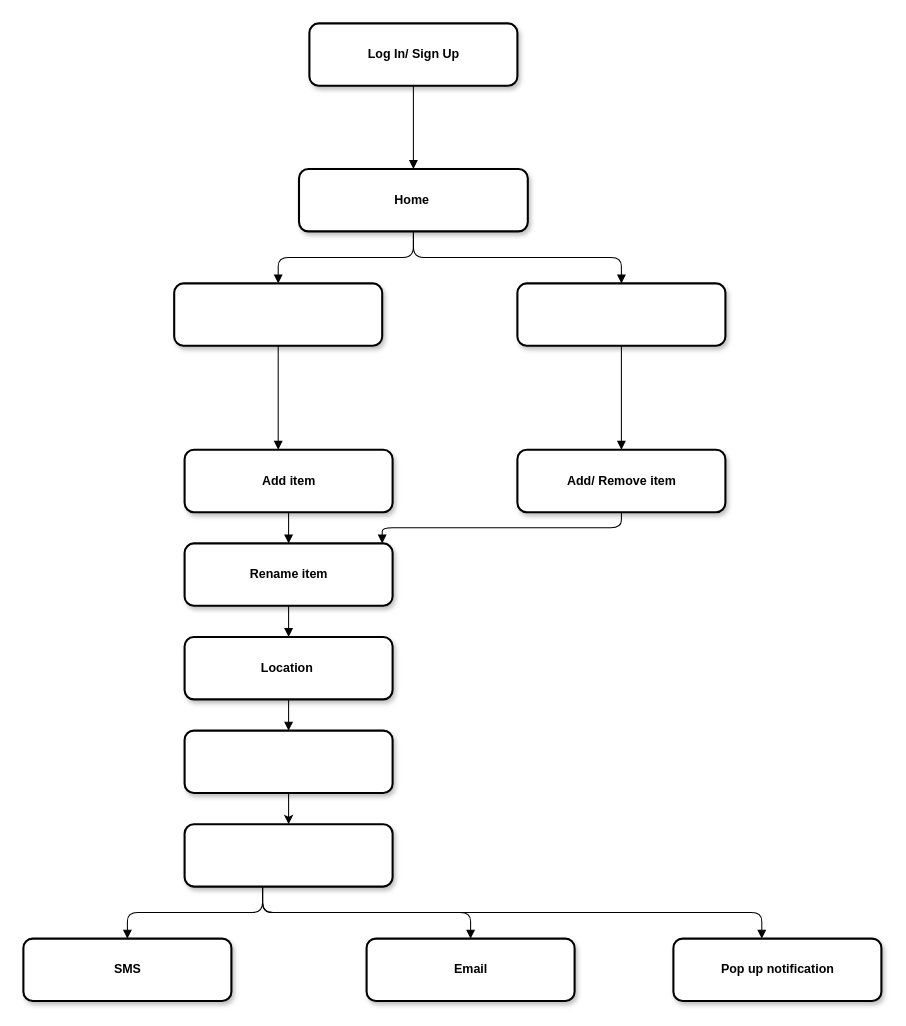
Some shapes in this 906 by 1026 pixel diagram are drawn without their labels. Here are the shapes that lost their labels. From the top down, the centre of each, then its label:
point (278, 316): Create new check list
point (622, 316): Existing check list
point (289, 763): Add image of location (optional)
point (289, 856): Set type of reminder
